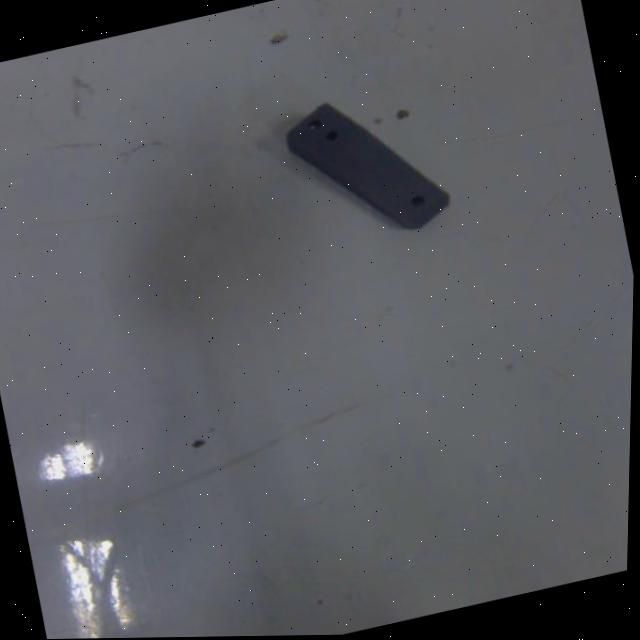grey: (275, 79, 454, 253)
head: (407, 190, 428, 209)
